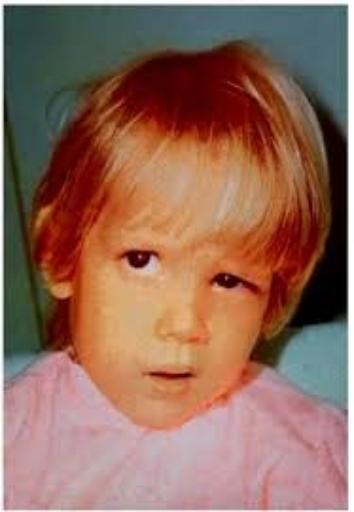left_eye: (210, 272, 259, 299)
left_lip_corner: (187, 369, 200, 383)
right_eye: (113, 249, 167, 281)
right_lip_corner: (140, 364, 158, 386)
